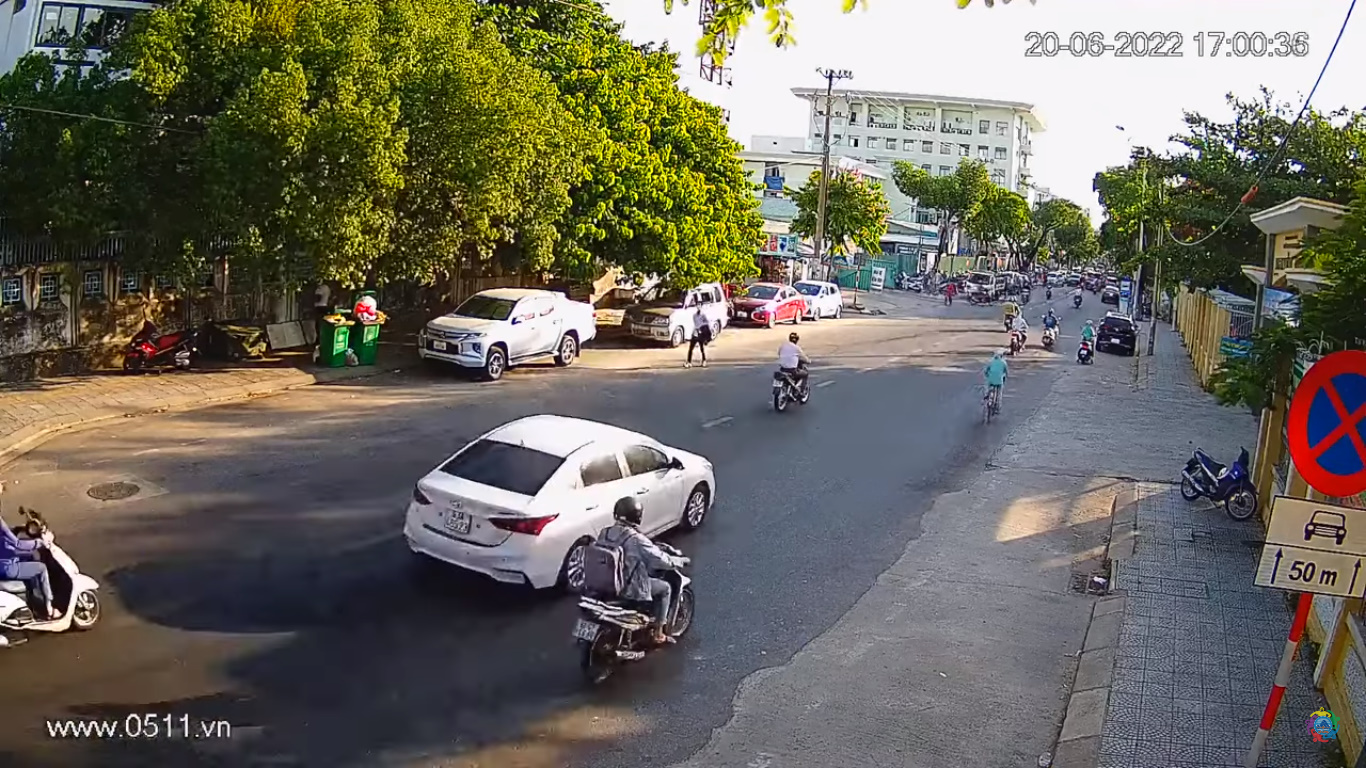car: (399, 414, 723, 592)
